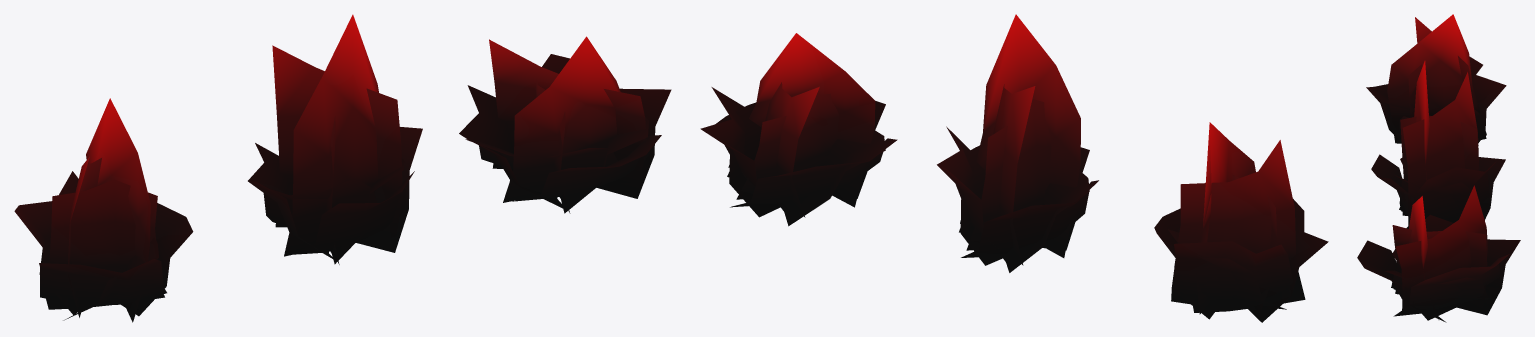
Rendered from SM_Grass.fbx.
3 renders of one model, left to right at view 1: azimuth 30°, elevation 25°; view 2: azimuth 150°, elevation 25°; view 3: azimuth 270°, elevation 25°, orthographic. The views are drawn at different scales.
Visible parts, largest first — view 1: SM_Grass_v1, SM_Grass_v3, SM_Grass_v2; view 2: SM_Grass_v1, SM_Grass_v3, SM_Grass_v2; view 3: SM_Grass_v3, SM_Grass_v1, SM_Grass_v2.
Boxes of the visible parts, <box> form: SM_Grass_v1: <box>248,14,422,264</box>; SM_Grass_v3: <box>459,36,671,213</box>; SM_Grass_v2: <box>14,98,193,322</box>; SM_Grass_v1: <box>937,14,1098,272</box>; SM_Grass_v3: <box>700,33,897,226</box>; SM_Grass_v2: <box>1154,122,1328,322</box>; SM_Grass_v3: <box>1357,185,1520,322</box>; SM_Grass_v1: <box>1371,61,1505,228</box>; SM_Grass_v2: <box>1366,14,1506,145</box>.
Bounding box in the file's own units: 5.56 × 1.98 × 1.73.
